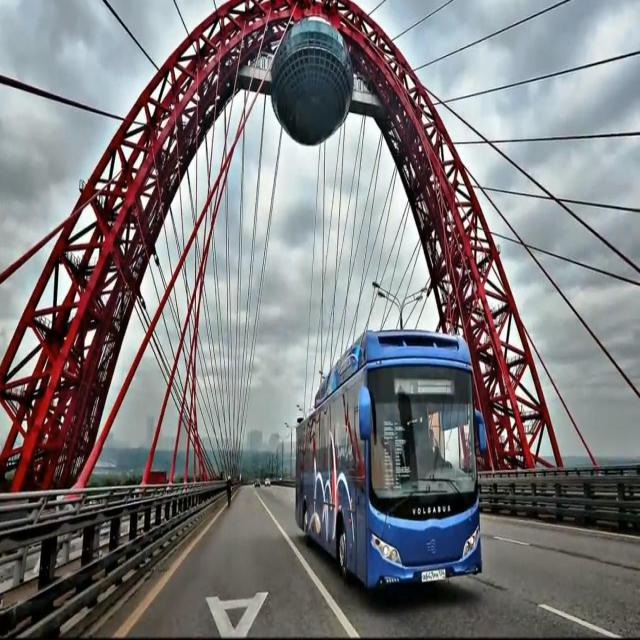bus: (299, 333, 482, 589)
